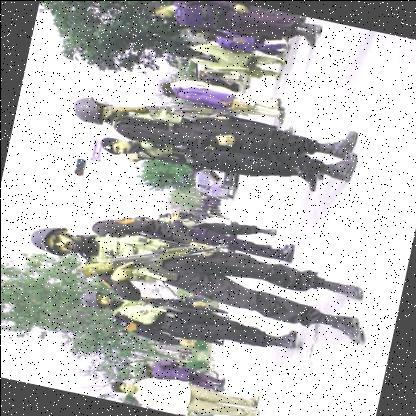rifle: (78, 208, 237, 311), (102, 78, 243, 145)
